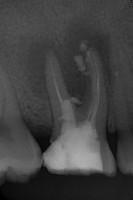Dental Caries: (24, 15, 111, 105)
